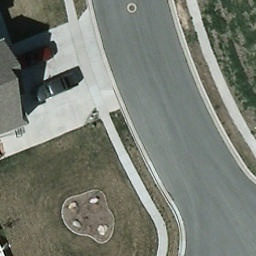car: (14, 45, 53, 70)
pickup: (34, 70, 78, 104)
